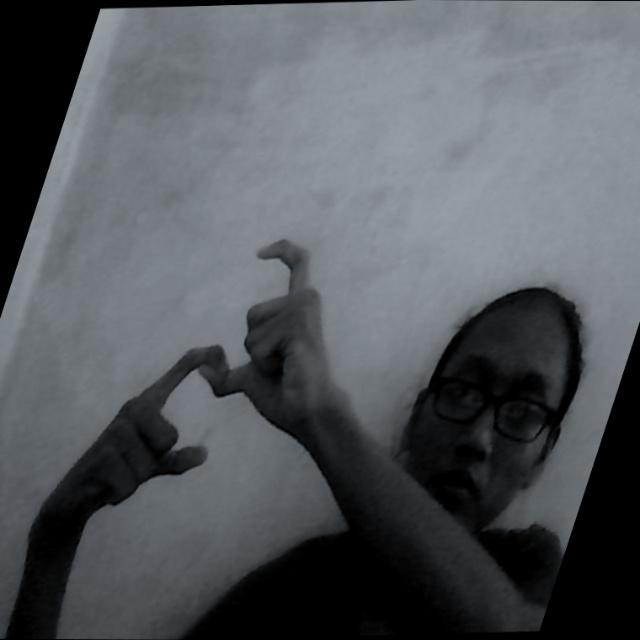S: (93, 230, 323, 512)
